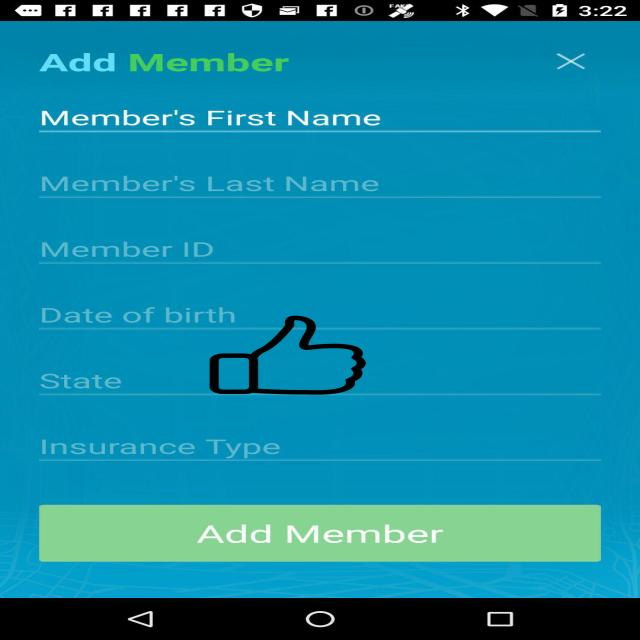privacy zuckering: (207, 316, 368, 394)
